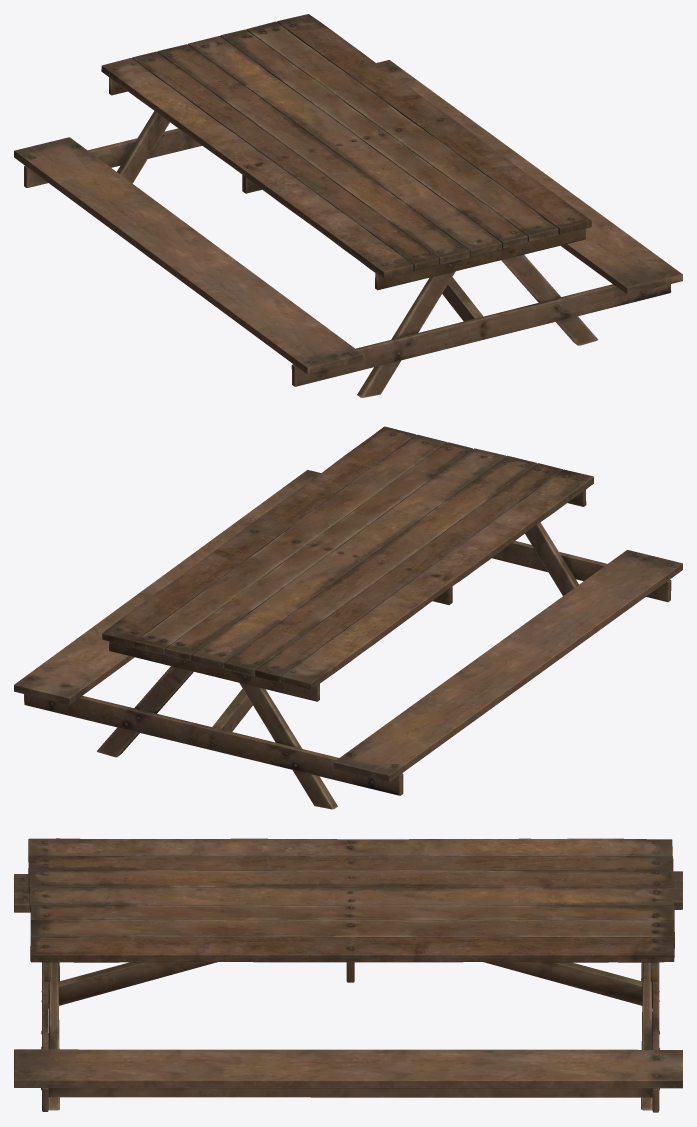
File: wooden_picnic_table.glb
The picture shows the model from 3 angles, top to bottom: view 1: azimuth 30°, elevation 25°; view 2: azimuth 150°, elevation 25°; view 3: azimuth 270°, elevation 25°; orthographic projection. The views are drawn at different scales.
Parts seen in each view (by area): view 1: wooden_picnic_table; view 2: wooden_picnic_table; view 3: wooden_picnic_table.
Part boxes in pixels (box(x1,y1,x2,y2)): wooden_picnic_table: box(14, 14, 682, 397); wooden_picnic_table: box(14, 426, 682, 809); wooden_picnic_table: box(14, 838, 682, 1112).
Bounding box in the file's own units: 2.24 × 0.746 × 3.02.
Materials: 2 (2 with a texture image).
